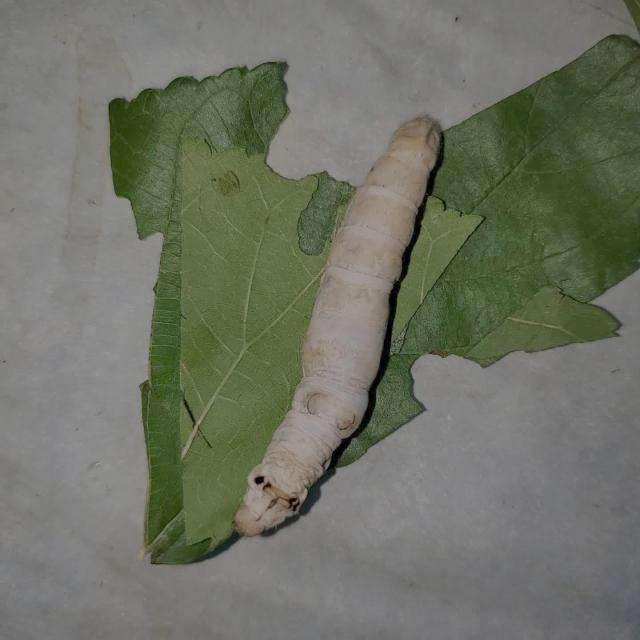Grasserie: (226, 89, 456, 541)
